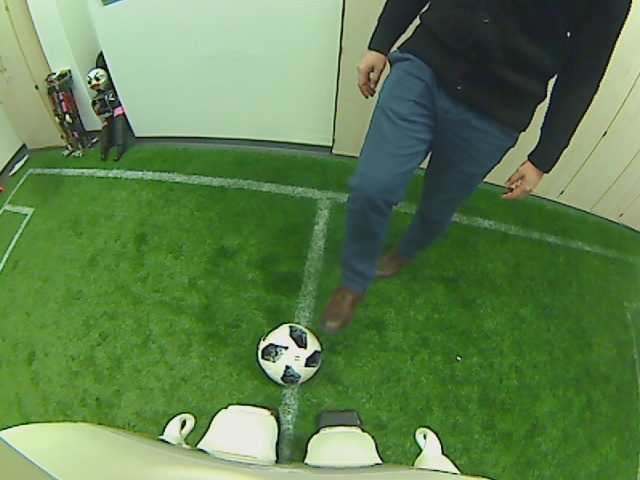ball: (255, 320, 323, 390)
